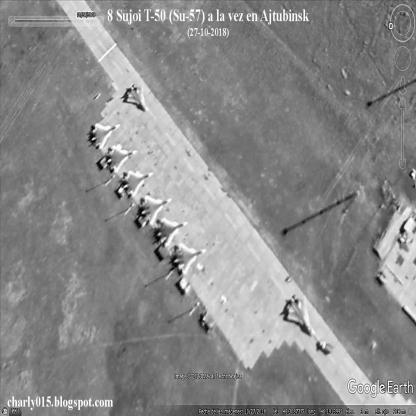Su57: (286, 295, 316, 339), (172, 243, 207, 276), (155, 218, 189, 249), (140, 196, 174, 227), (122, 171, 155, 199), (106, 146, 139, 174), (92, 123, 122, 151), (125, 84, 150, 113)
